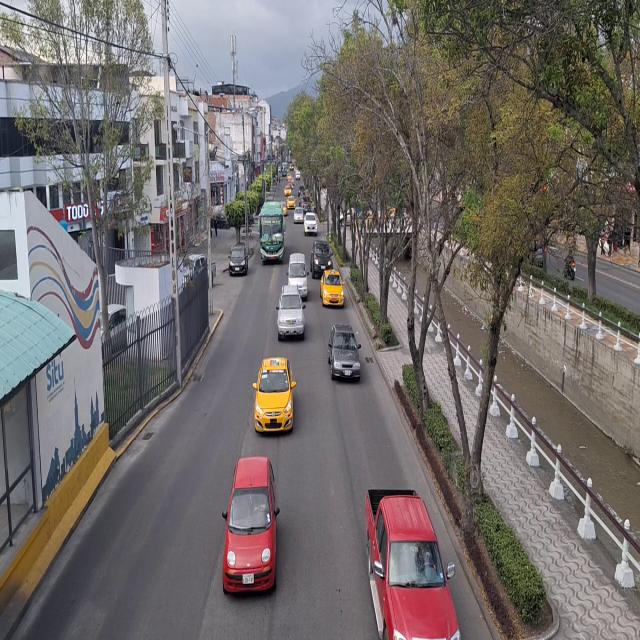BUS: (260, 208, 284, 264)
CMT: (366, 482, 449, 640)
